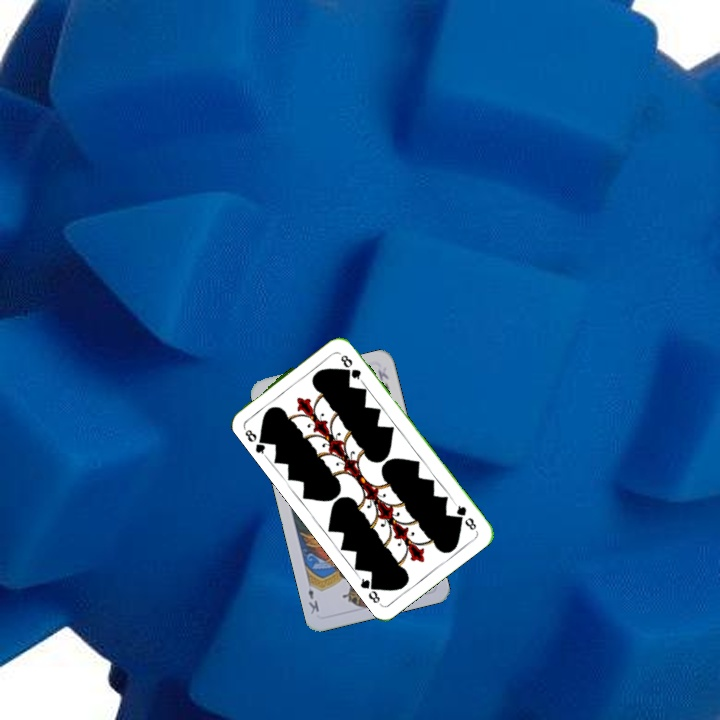G8: (239, 423, 271, 458), (450, 499, 479, 533)
